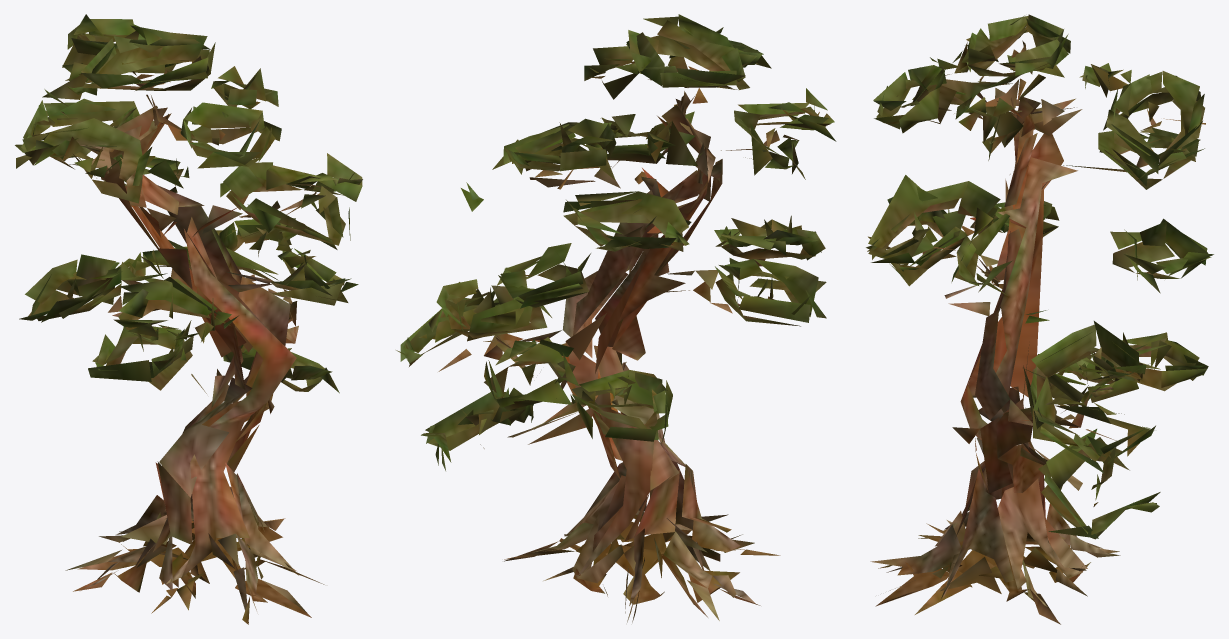
File: pinheiro_vermelho_lod2.glb
The picture shows the model from 3 angles, left to right: view 1: azimuth 30°, elevation 25°; view 2: azimuth 150°, elevation 25°; view 3: azimuth 270°, elevation 25°; orthographic projection. The views are drawn at different scales.
Visible parts, largest first — view 1: pinheiro_vermelho; view 2: pinheiro_vermelho; view 3: pinheiro_vermelho.
Boxes of the visible parts, x1,y1,x2,y2 form: pinheiro_vermelho: [15, 14, 362, 624]; pinheiro_vermelho: [396, 14, 836, 622]; pinheiro_vermelho: [866, 14, 1213, 624].
Size of the model in its own units: 6.42 by 9.18 by 5.3.
1 material, 1 textured.
